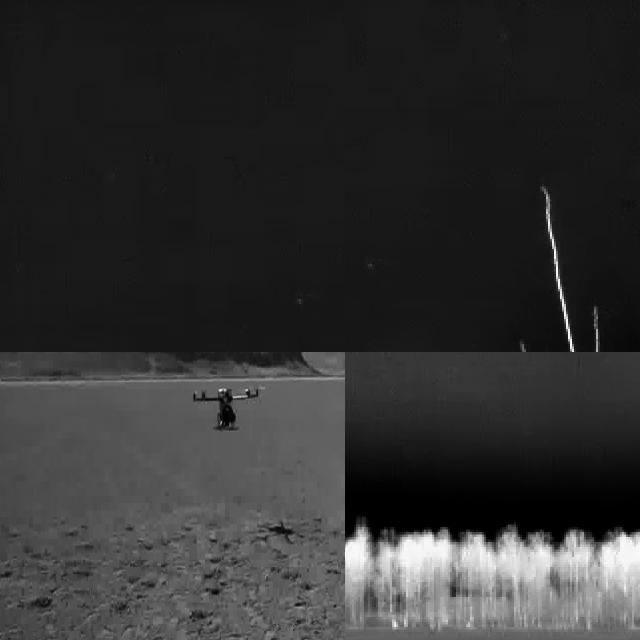0: (354, 254, 378, 282), (288, 289, 308, 317)
drone: (191, 388, 263, 434)
